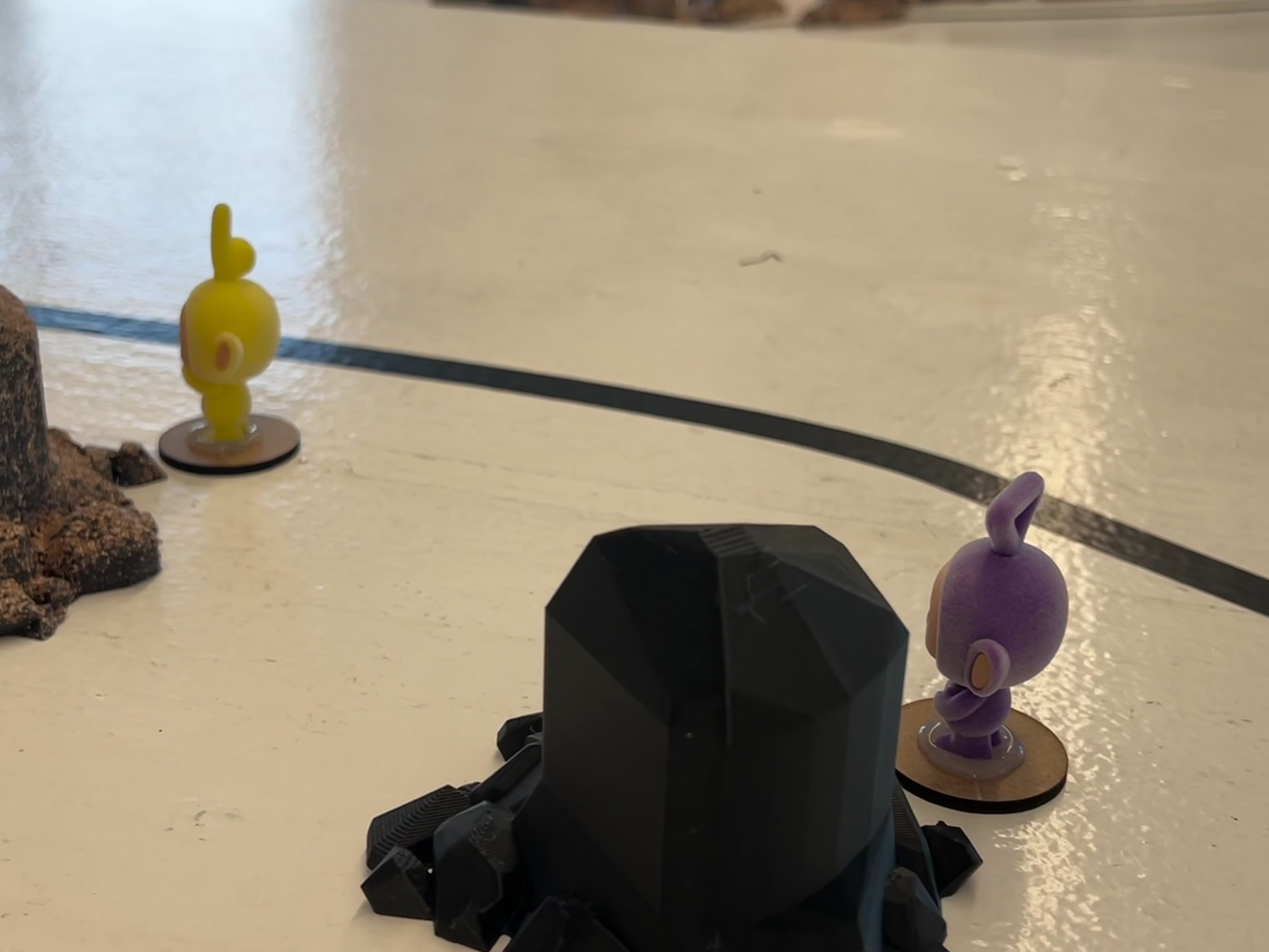teletubby: (926, 472, 1068, 760), (180, 204, 280, 445)
